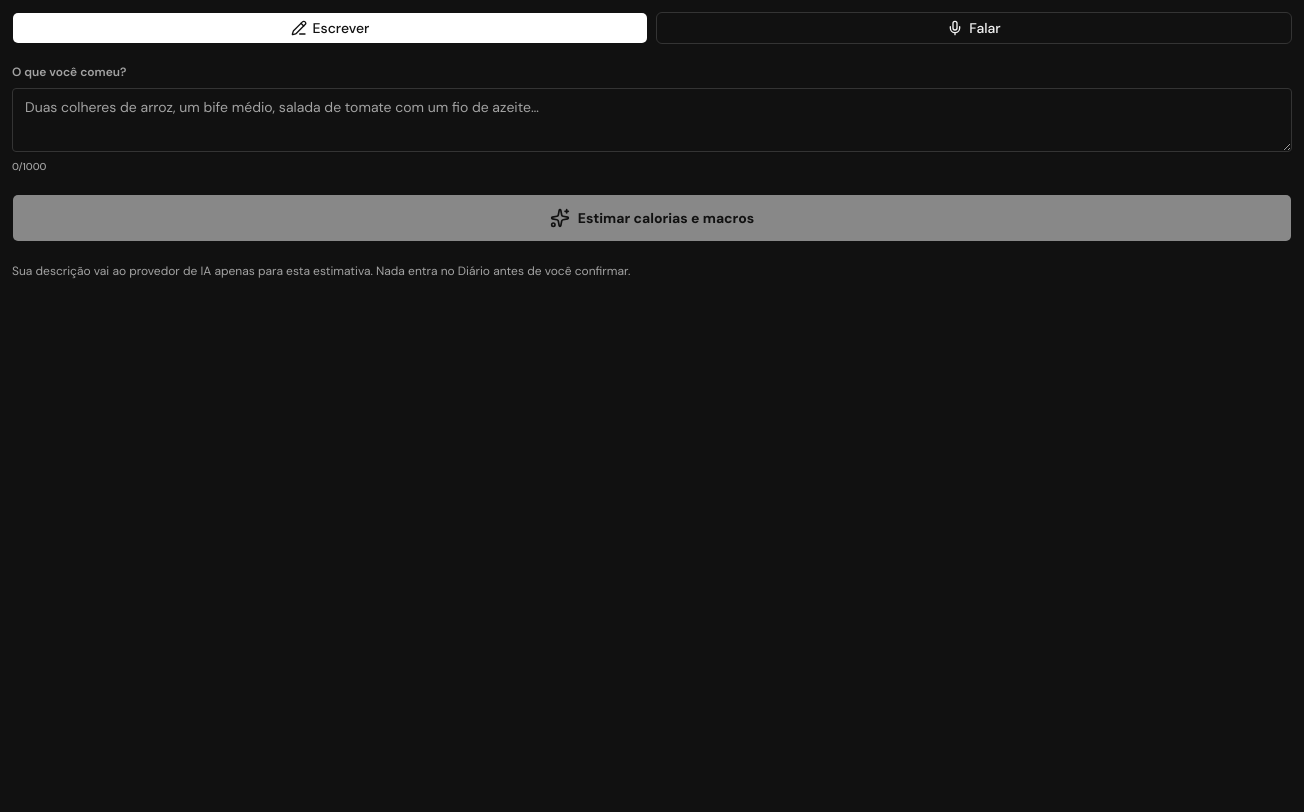
Test: RegistroPorDescricao › nada é gravado ao estimar: a IA propõe, o atleta confirma
This screenshot has width=1304, height=812.
In the text box named "Descrição da refeição": (652, 120) [12,88,1292,152], type "arroz e bife"
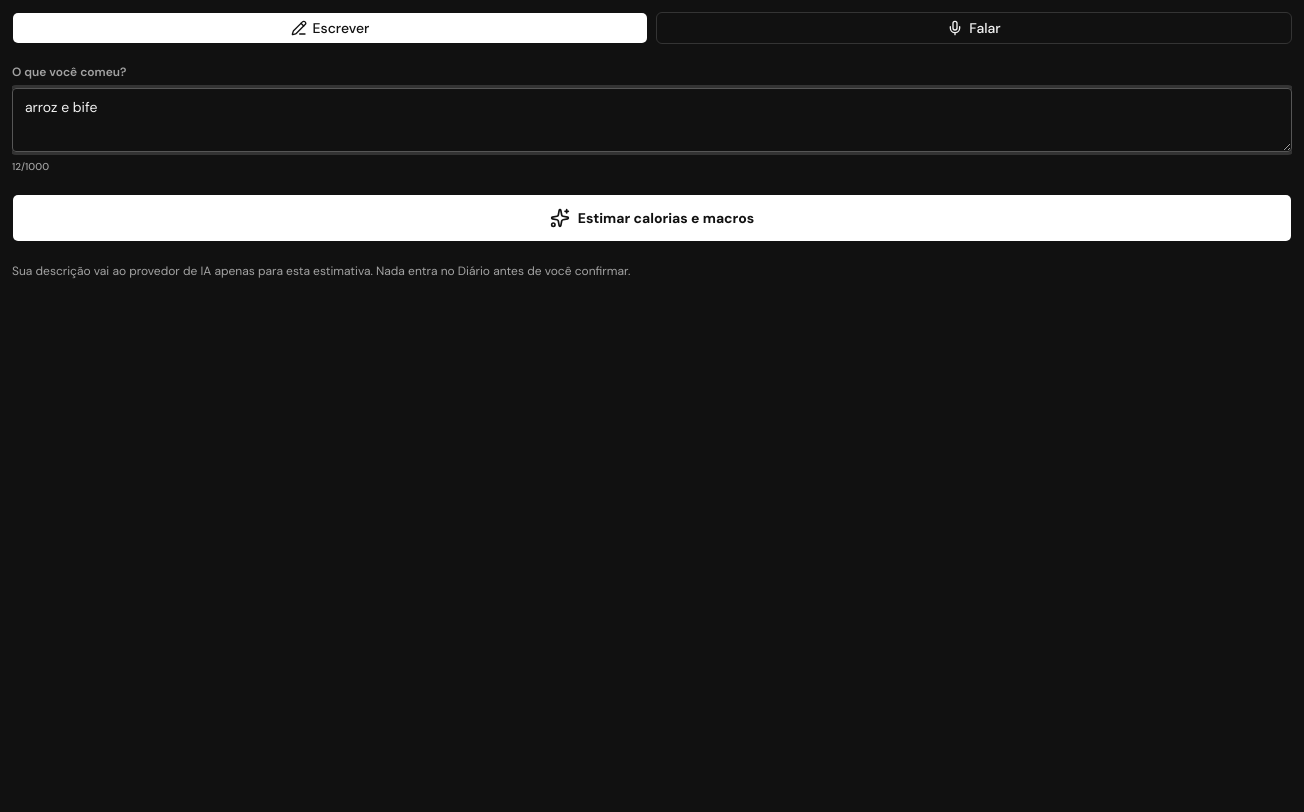
Click the button "Estimar calorias e macros": (652, 218) [12,194,1292,242]
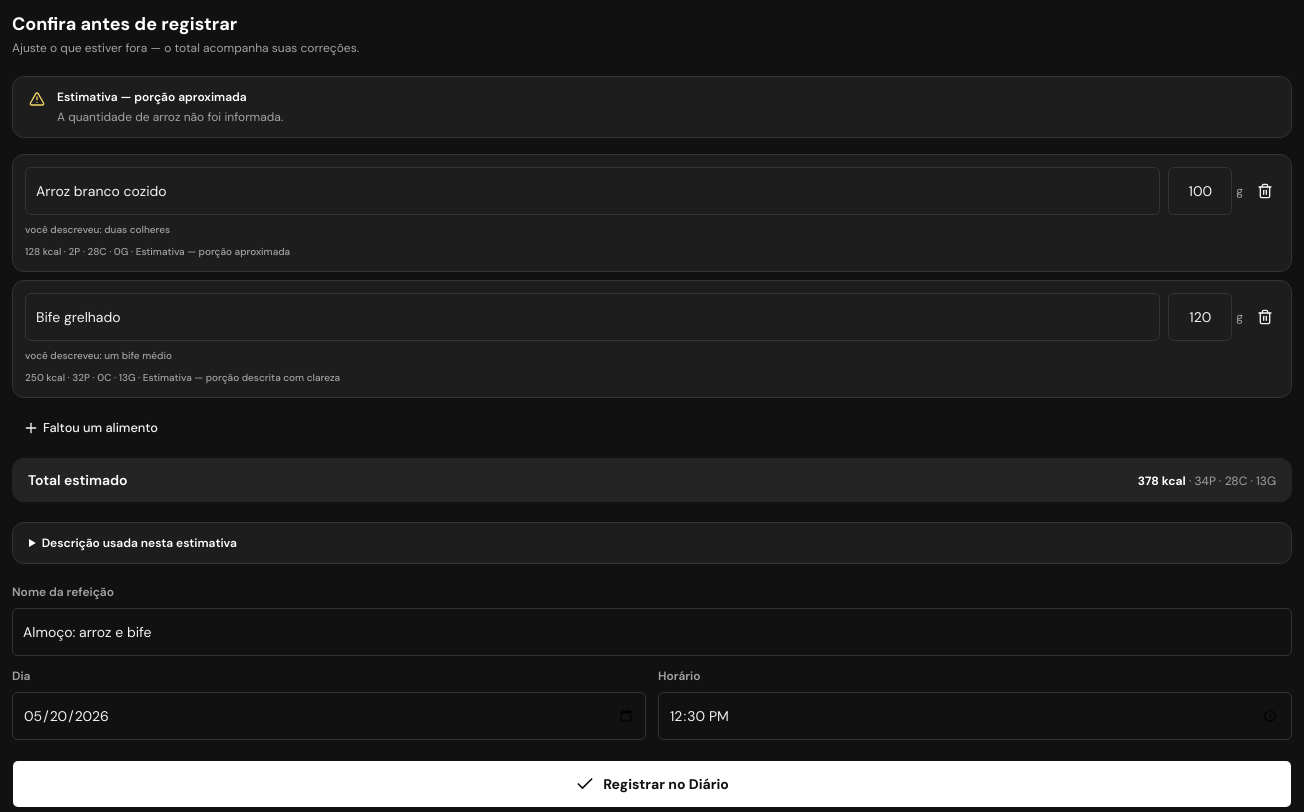
Check: the heading "Confira antes de registrar" is shown, box [12,12,237,36]
